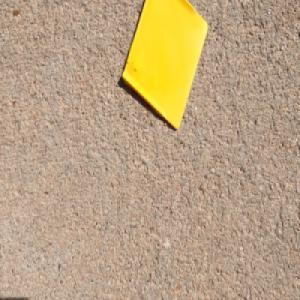PlasticPart: (120, 0, 209, 131)
